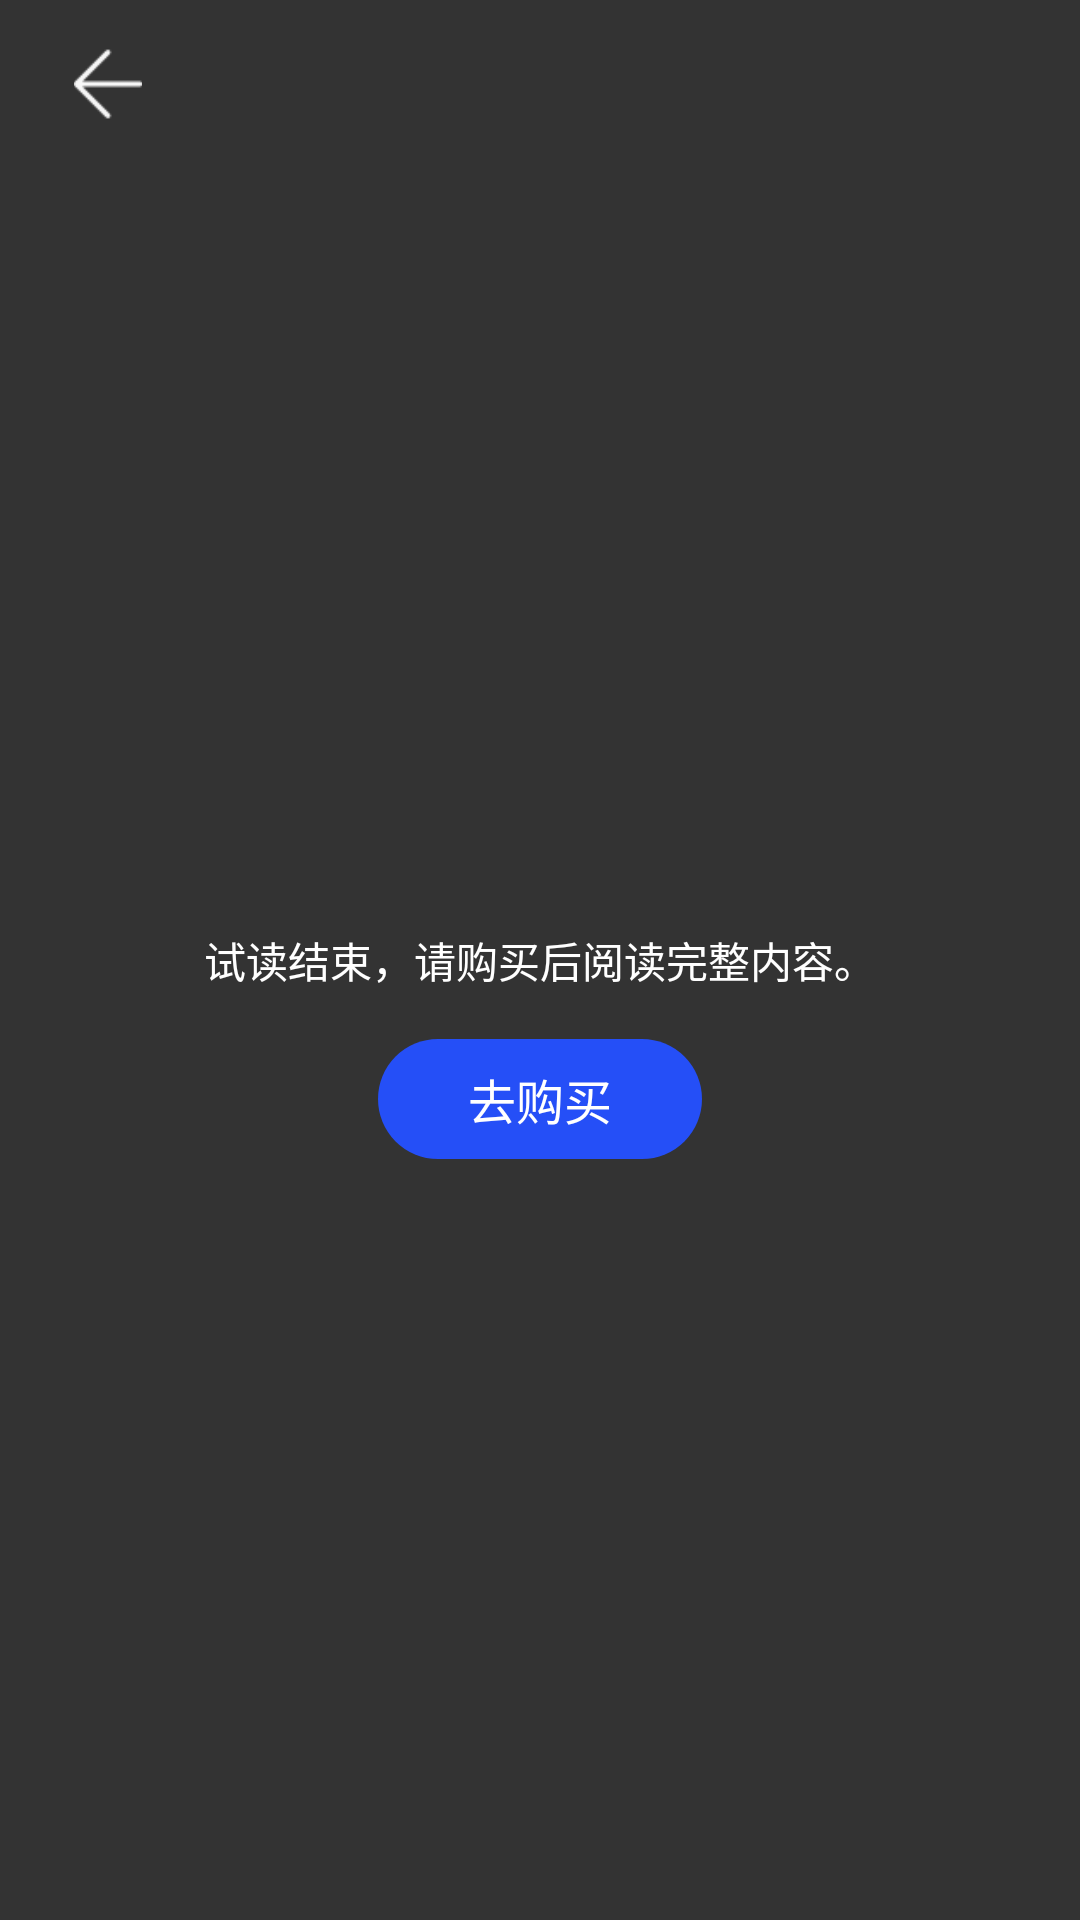

Named icons in this screenshot (1080px x 1920px) and their bounding boxes, Rect(x1, y1, x2, y2):
reader exit: Rect(74, 49, 142, 119)
